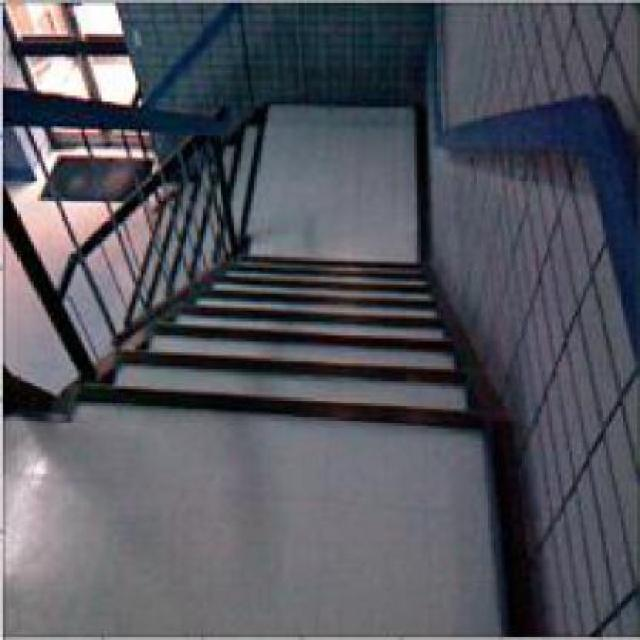stair: (91, 282, 514, 491)
